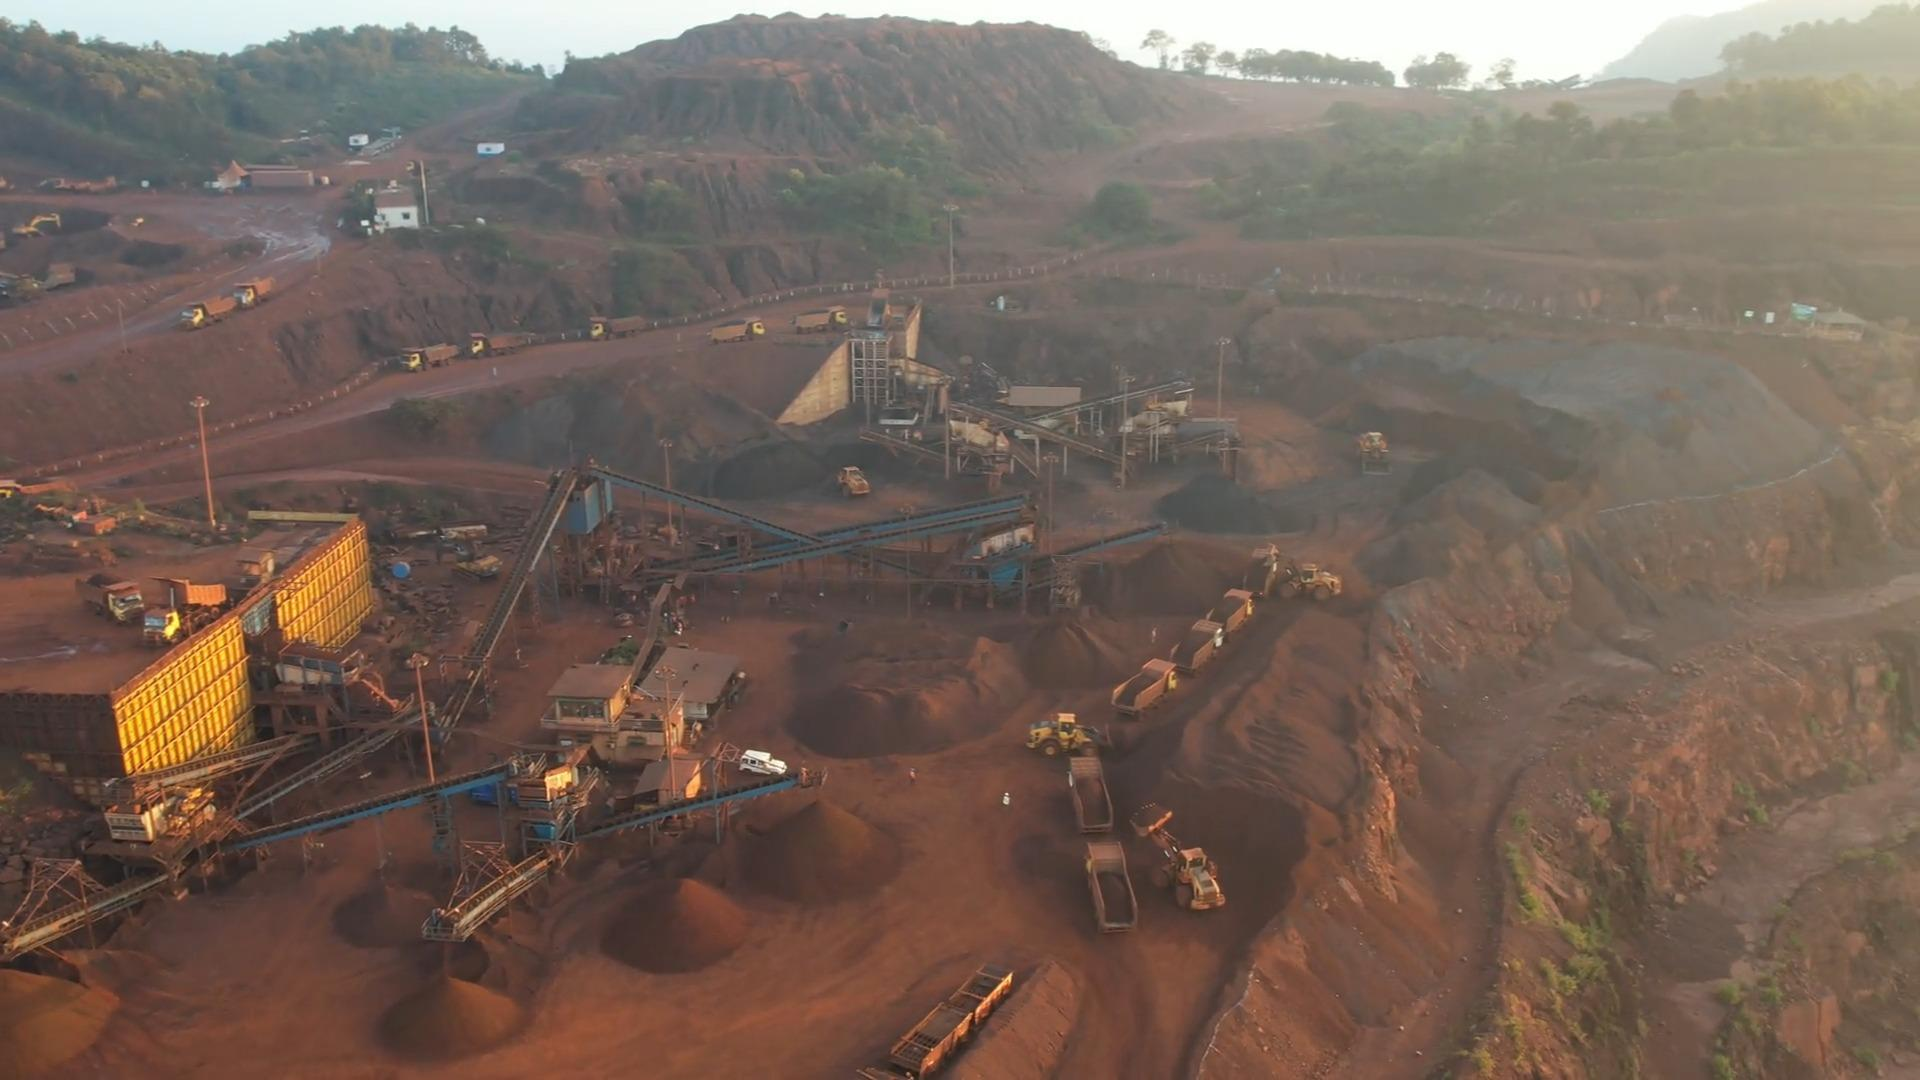excavator: (452, 541, 502, 585)
